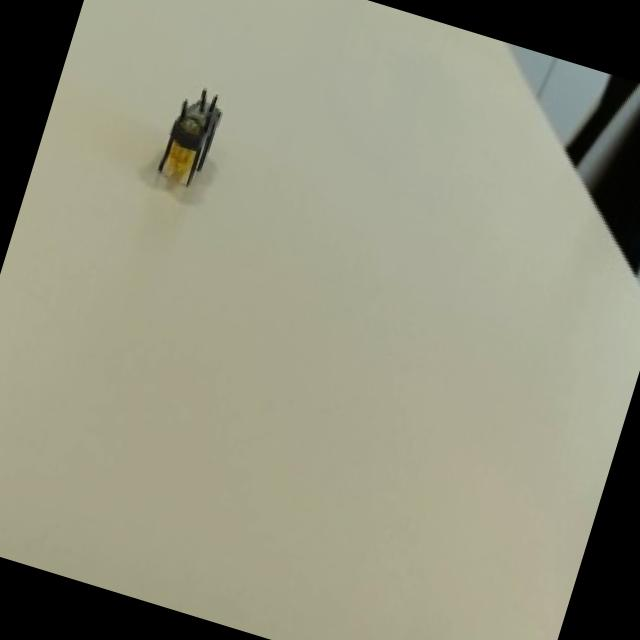6_NanoBug_GrisOscuro: (104, 62, 256, 232)
